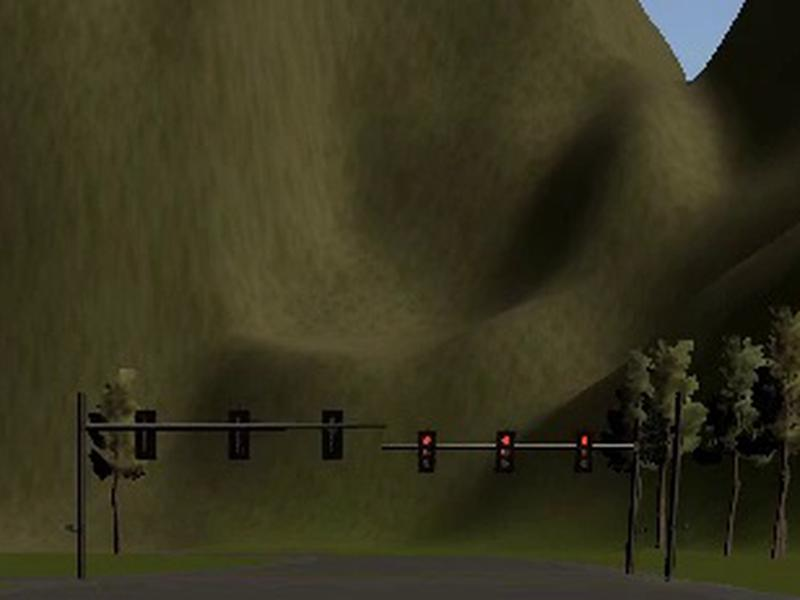Red: (493, 430, 516, 474), (573, 431, 592, 473), (418, 431, 436, 473)
